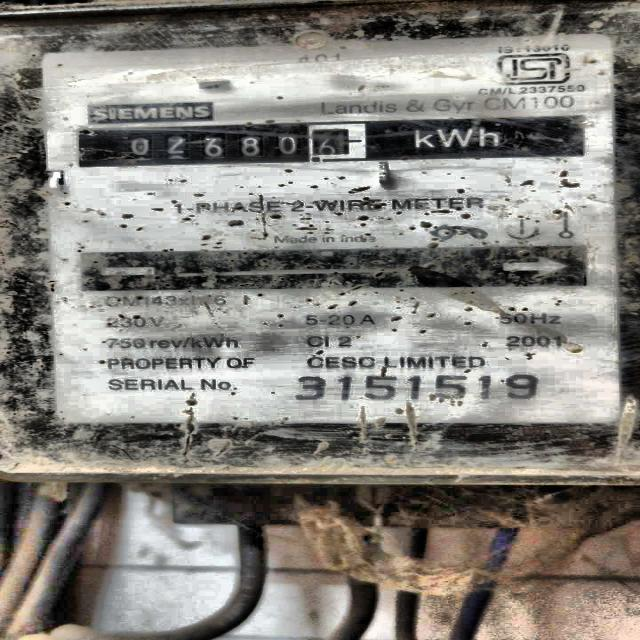Analog: (2, 2, 640, 486)
Reading: (118, 130, 366, 162)
Serial No.: (296, 372, 550, 404)
